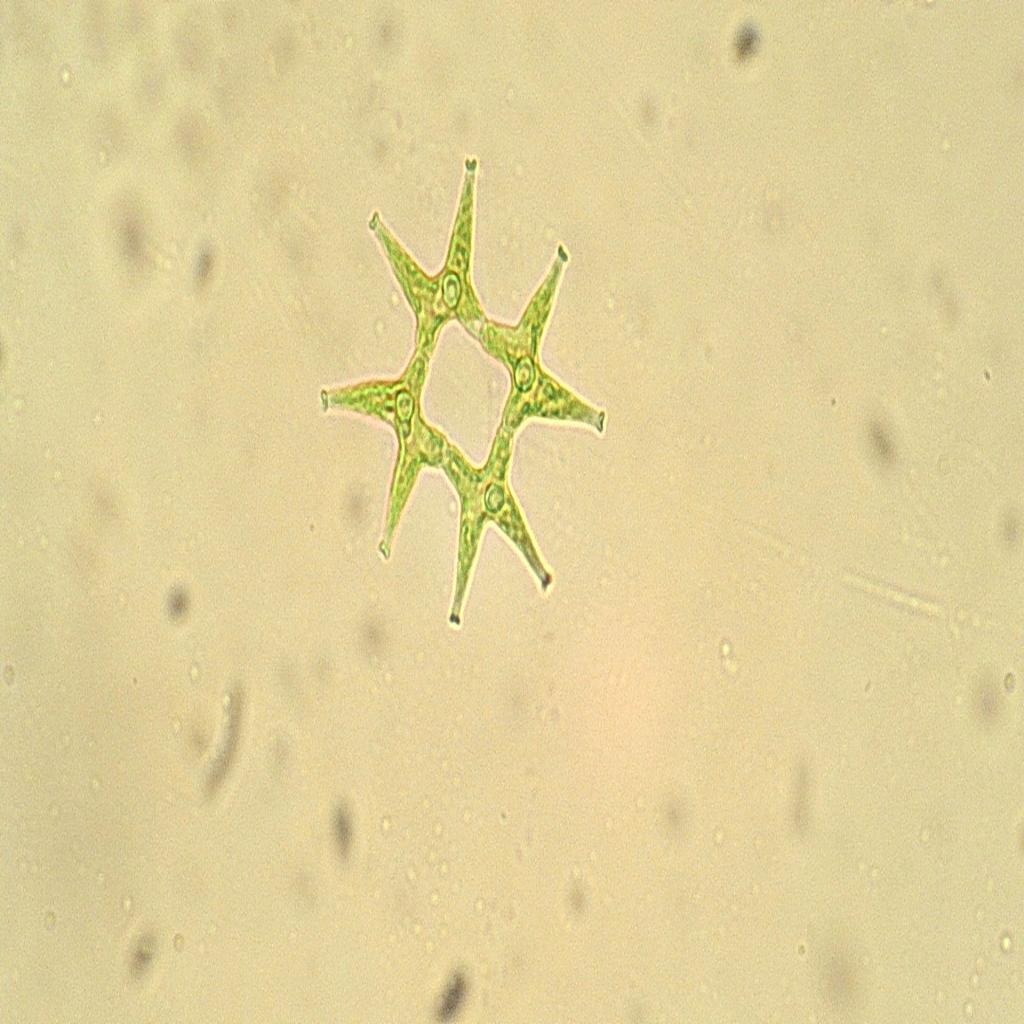Pediastrum_10: (304, 141, 626, 640)
